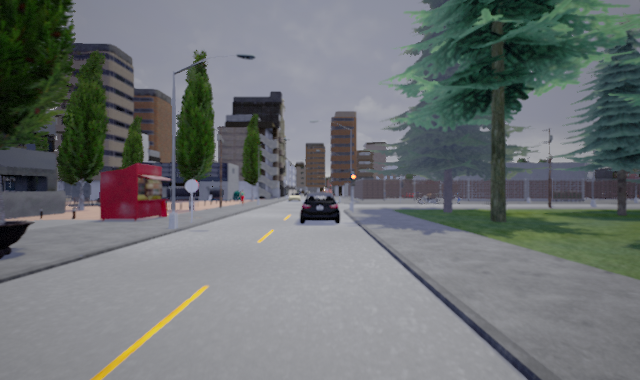motobike: (416, 191, 443, 206)
vehicle: (298, 191, 342, 225)
